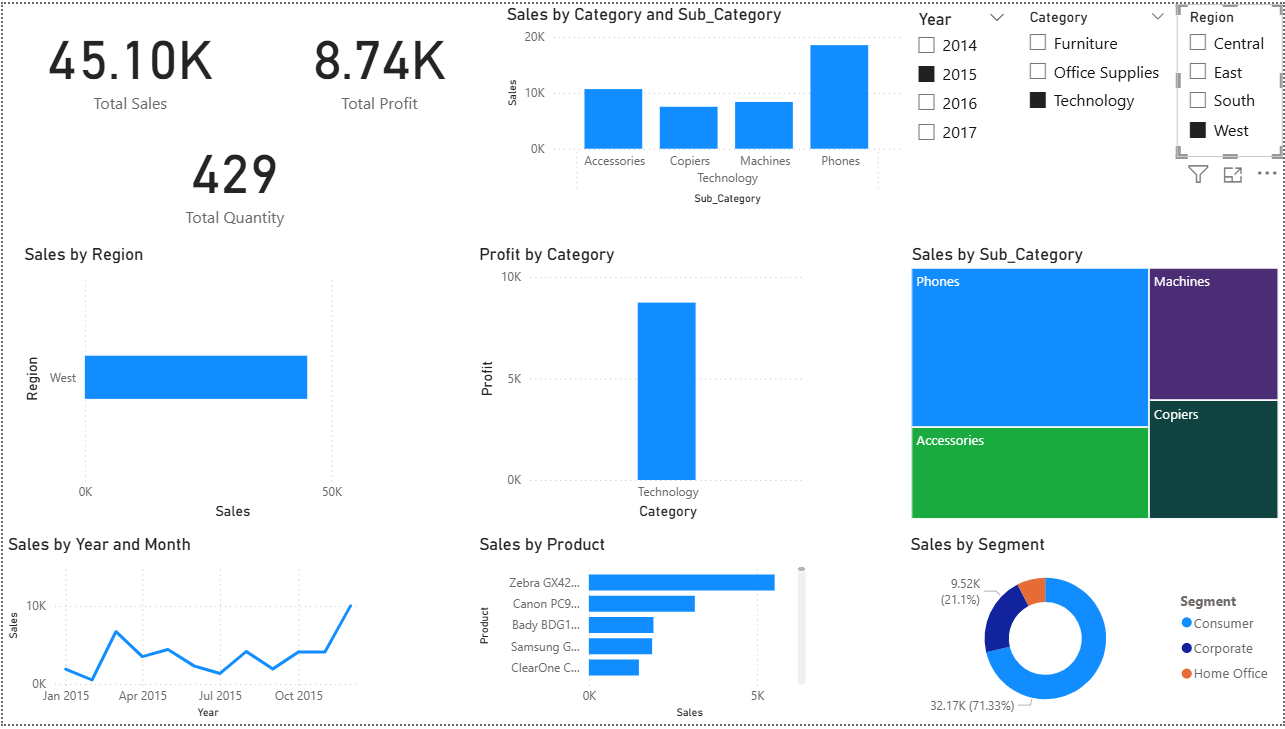

This screenshot's page, from the dashboard's own definition file:
{"tool":"powerbi","page":{"name":"Page 1","canvas":[1280,720],"ordinal":0},"visuals":[{"type":"card","fields":{"Values":["Sum(Sample - Superstore.Sales)"]},"box":[0,0,255,120],"z":0},{"type":"card","fields":{"Values":["Sum(Sample - Superstore.Quantity)"]},"box":[16.7,120,431.7,108.3],"z":1000},{"type":"card","fields":{"Values":["Sum(Sample - Superstore.Profit)"]},"box":[255,0,243.3,120],"z":2000},{"type":"barChart","fields":{"Category":["Sample - Superstore.Region"],"Y":["Sum(Sample - Superstore.Sales)"]},"box":[16.7,240,376.7,280],"z":3000},{"type":"columnChart","fields":{"Category":["Sample - Superstore.Category"],"Y":["Sum(Sample - Superstore.Profit)"]},"box":[471.7,240,336.7,280],"z":4000},{"type":"treemap","fields":{"Group":["Sample - Superstore.Sub_Category"],"Values":["Sum(Sample - Superstore.Sales)"]},"box":[903.3,240,376.7,280],"z":5000},{"type":"lineChart","fields":{"Y":["Sum(Sample - Superstore.Sales)"],"Category":["Sample - Superstore.Order_Date.Variation.Date Hierarchy.Year","Sample - Superstore.Order_Date.Variation.Date Hierarchy.Month"]},"box":[0,530,376.7,190],"z":6000},{"type":"barChart","fields":{"Category":["Sample - Superstore.Product_Name"],"Y":["Sum(Sample - Superstore.Sales)"]},"box":[471.7,530,336.7,190],"z":7000},{"type":"donutChart","fields":{"Category":["Sample - Superstore.Segment"],"Y":["Sum(Sample - Superstore.Sales)"]},"box":[903,530,377,190],"z":8000},{"type":"slicer","fields":{"Values":["Sample - Superstore.Year"]},"box":[902.9,0,111.4,154.3],"z":9000},{"type":"slicer","fields":{"Values":["Sample - Superstore.Region"]},"box":[1173.8,0,106.2,153.8],"z":10000},{"type":"slicer","fields":{"Values":["Sample - Superstore.Category"]},"box":[1013.8,0,160,153.8],"z":11000},{"type":"columnChart","fields":{"Category":["Sample - Superstore.Category","Sample - Superstore.Sub_Category"],"Y":["Sum(Sample - Superstore.Sales)"]},"box":[498.6,0,404.3,205.7],"z":12000}]}

Visuals, with their boxes in screenshot pixels (x1, y1, x2, y2), scaled from the page's 1280x720 canvas onto the 1285x729 screenshot:
card - Sum(Sample - Superstore.Sales): bbox(0, 0, 256, 122)
card - Sum(Sample - Superstore.Quantity): bbox(17, 122, 450, 231)
card - Sum(Sample - Superstore.Profit): bbox(256, 0, 500, 122)
barChart - Sample - Superstore.Region x Sum(Sample - Superstore.Sales): bbox(17, 243, 395, 526)
columnChart - Sample - Superstore.Category x Sum(Sample - Superstore.Profit): bbox(474, 243, 812, 526)
treemap - Sample - Superstore.Sub_Category x Sum(Sample - Superstore.Sales): bbox(907, 243, 1284, 526)
lineChart - Sum(Sample - Superstore.Sales) x Sample - Superstore.Order_Date.Variation.Date Hierarchy.Year: bbox(0, 537, 378, 728)
barChart - Sample - Superstore.Product_Name x Sum(Sample - Superstore.Sales): bbox(474, 537, 812, 728)
donutChart - Sample - Superstore.Segment x Sum(Sample - Superstore.Sales): bbox(907, 537, 1284, 728)
slicer - Sample - Superstore.Year: bbox(906, 0, 1018, 156)
slicer - Sample - Superstore.Region: bbox(1178, 0, 1284, 156)
slicer - Sample - Superstore.Category: bbox(1018, 0, 1178, 156)
columnChart - Sample - Superstore.Category x Sample - Superstore.Sub_Category: bbox(501, 0, 906, 208)
